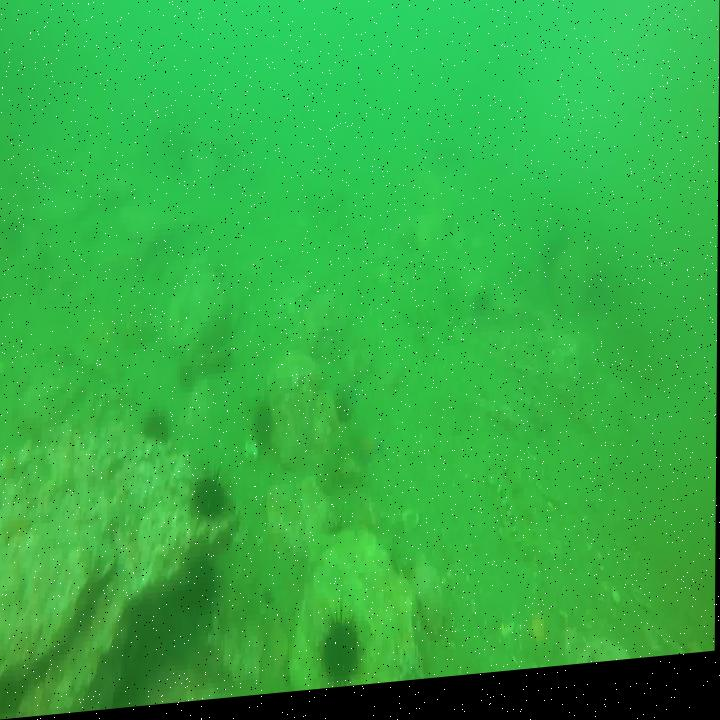echinus: (324, 621, 364, 694), (180, 565, 218, 614), (194, 474, 229, 519), (323, 521, 351, 567), (250, 408, 276, 454), (334, 390, 357, 434), (148, 409, 173, 449)
holothurian: (496, 469, 546, 575)
